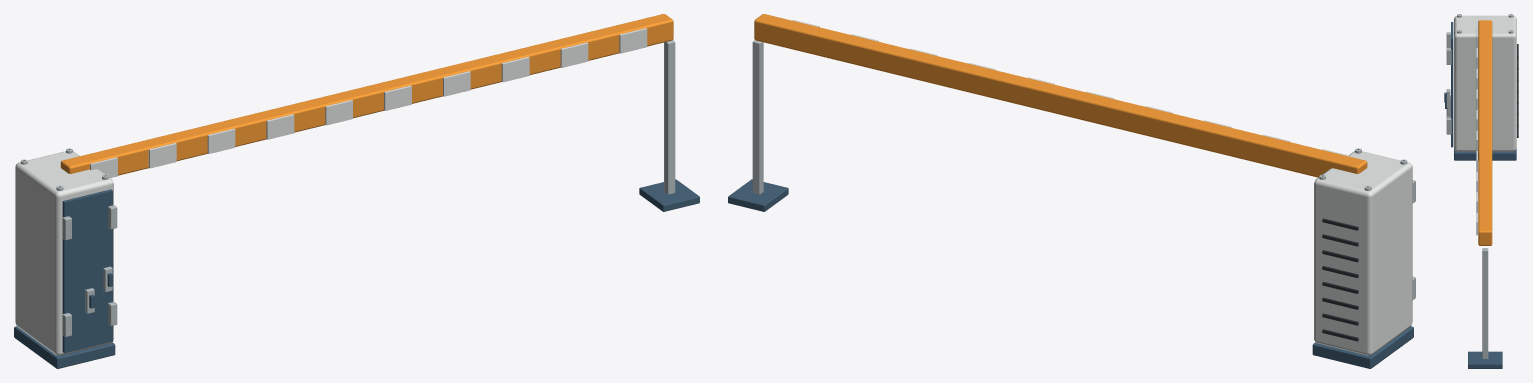
Rendered from container-inspection-and-customs-yard-container-inspec-fe85b5ca__29297.glb.
The picture shows the model from 3 angles, left to right: view 1: azimuth 30°, elevation 25°; view 2: azimuth 150°, elevation 25°; view 3: azimuth 270°, elevation 25°; orthographic projection. The views are drawn at different scales.
Parts seen in each view (by area): view 1: container-inspection-and-customs-yard-road-lane-barrier; view 2: container-inspection-and-customs-yard-road-lane-barrier; view 3: container-inspection-and-customs-yard-road-lane-barrier.
Boxes of the visible parts, bbox=[...] form: container-inspection-and-customs-yard-road-lane-barrier: bbox=[14, 14, 699, 368]; container-inspection-and-customs-yard-road-lane-barrier: bbox=[728, 14, 1415, 368]; container-inspection-and-customs-yard-road-lane-barrier: bbox=[1444, 14, 1518, 368].
Size of the model in its own units: 3.88 by 1.04 by 0.5349.
